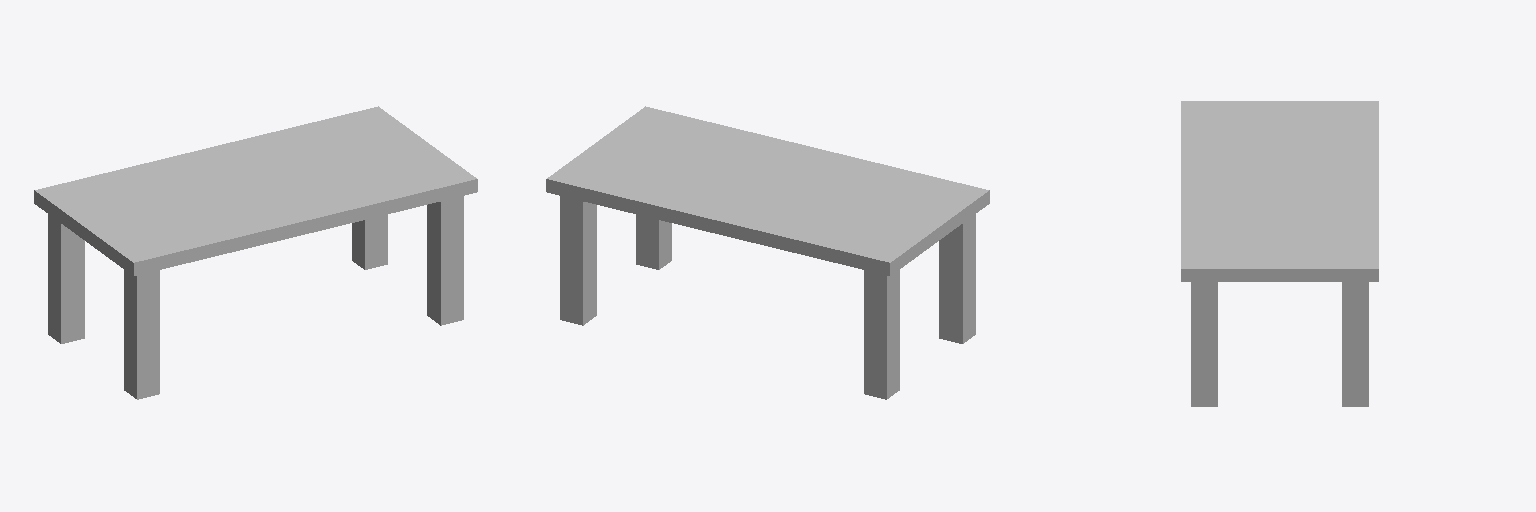
The model's file is Table2.obj.
The picture shows the model from 3 angles: view 1: azimuth 30°, elevation 25°; view 2: azimuth 150°, elevation 25°; view 3: azimuth 270°, elevation 25°; orthographic projection.
Visible parts, largest first — view 1: pCube1; view 2: pCube1; view 3: pCube1.
Boxes of the visible parts, x1=… form: pCube1: x1=34, y1=106, x2=477, y2=399; pCube1: x1=546, y1=106, x2=989, y2=399; pCube1: x1=1181, y1=101, x2=1378, y2=406.
Bounding box in the file's own units: 2 × 0.7938 × 1.